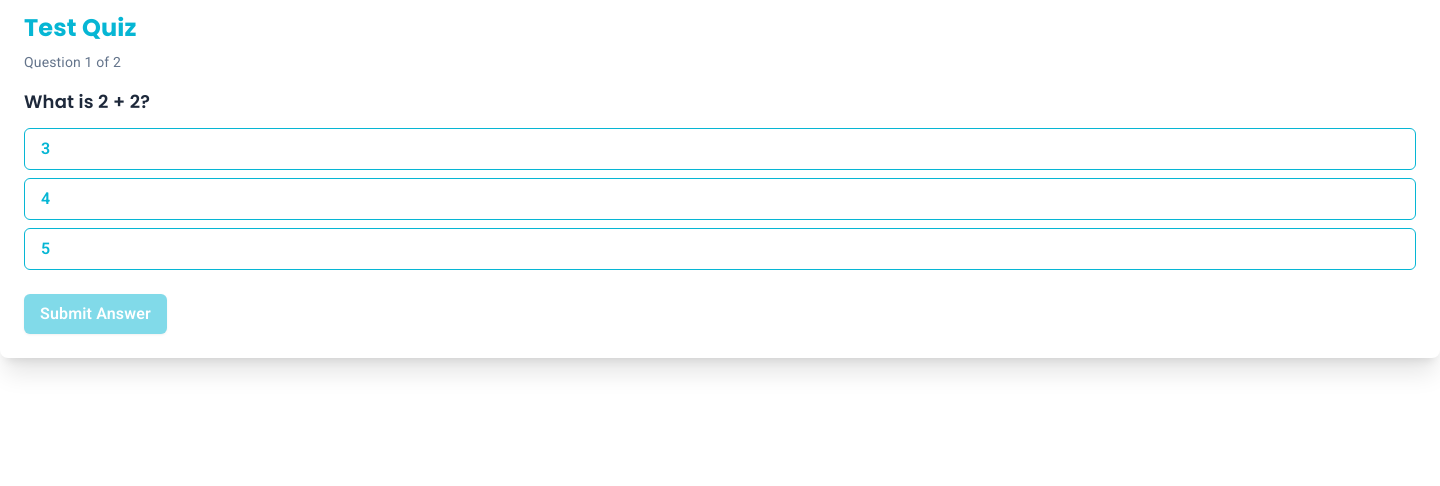
Test: QuizView › shows explanation and correct/incorrect status after submitting an answer
This screenshot has width=1440, height=486.
Select correct answer
Click the button "4" at coordinates (46, 198), box [24,178,1416,220]
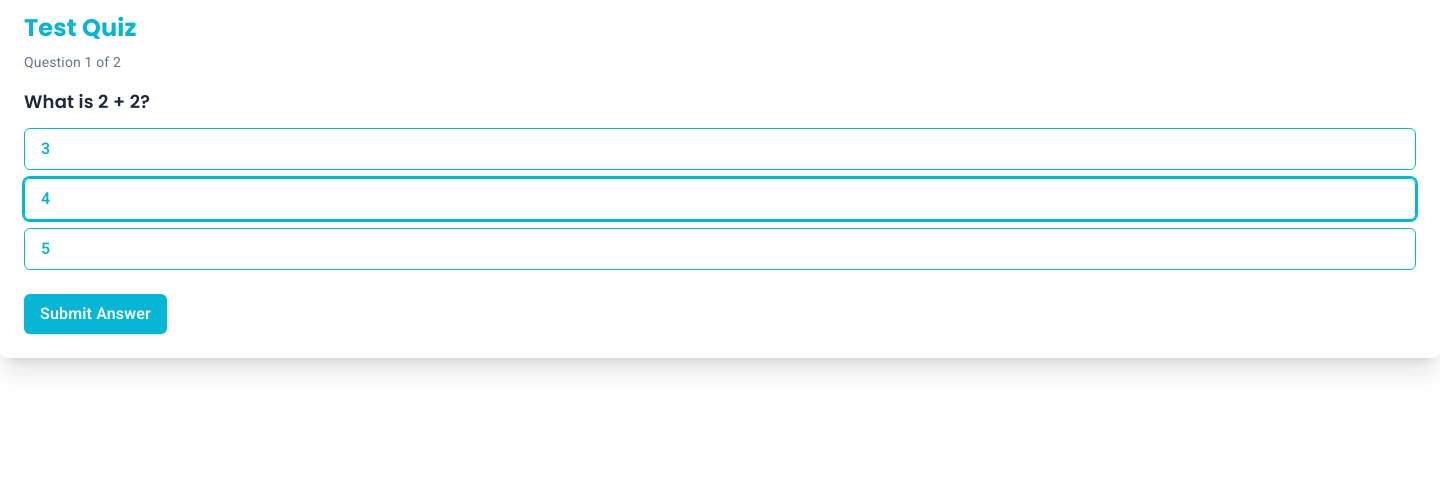
Click the button "Submit Answer" at coordinates (95, 314), box [24,294,167,334]
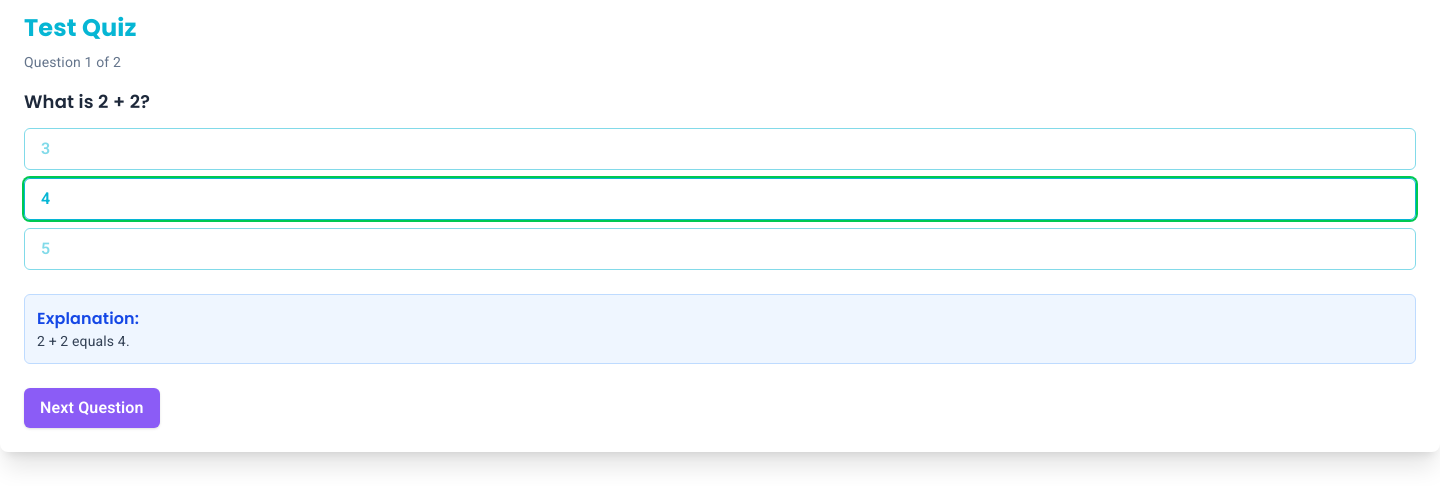
Expected: the heading "Explanation:" is shown, [37,307,139,330]
Expected: the text "2 + 2 equals 4." is shown, [37,333,130,349]
Expected: the button "Next Question" is shown, [24,388,160,428]
